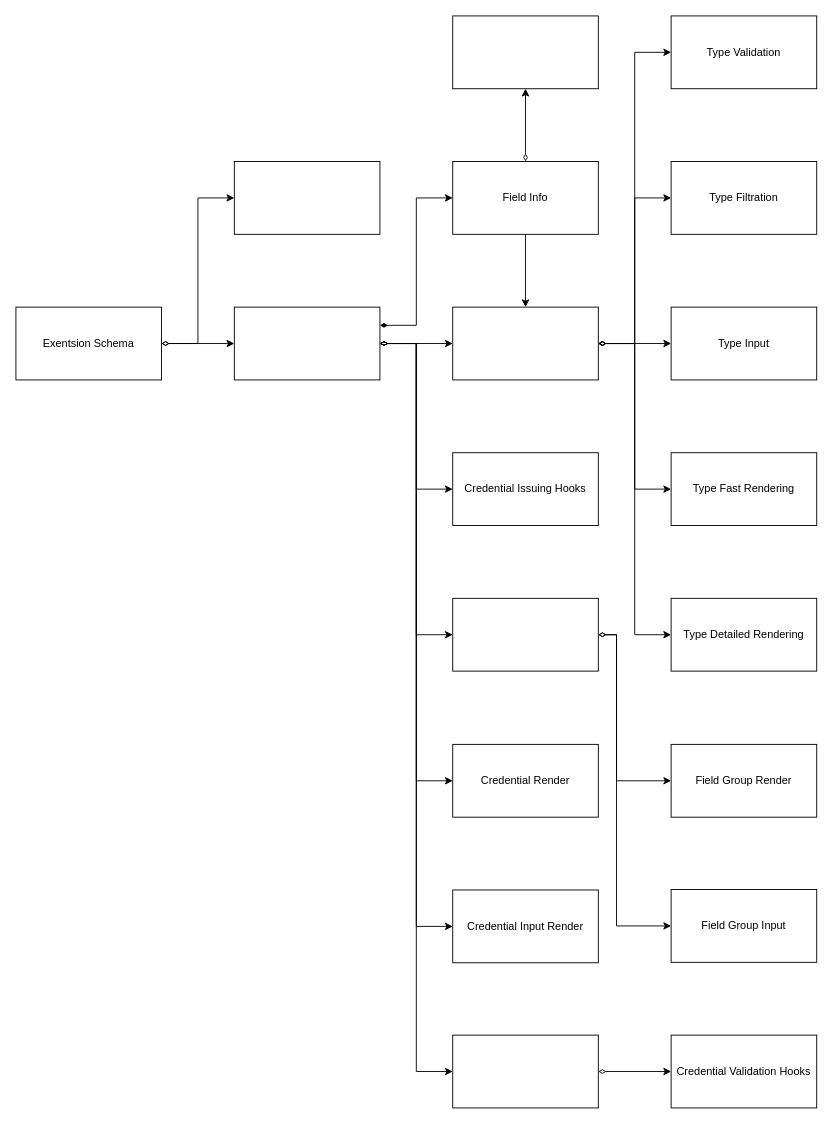
This 833x1124 diagram has some shape labels left out. The centre of each missing label's shape, as x and y in pixels:
"Credential flow" goes at point (306, 197).
"Credential Schema" goes at point (306, 343).
"Credential Validation Schema" goes at point (525, 1071).
"Field Group" goes at point (525, 634).
"Info Localization" goes at point (525, 52).
"Type Schema" goes at point (525, 343).
